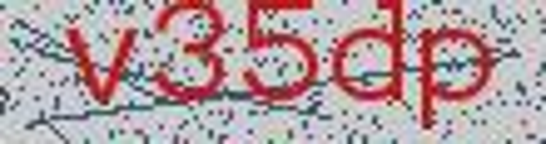3: (150, 3, 230, 114)
5: (236, 1, 321, 110)
d: (326, 1, 409, 117)
p: (416, 22, 496, 135)
v: (58, 13, 137, 117)
